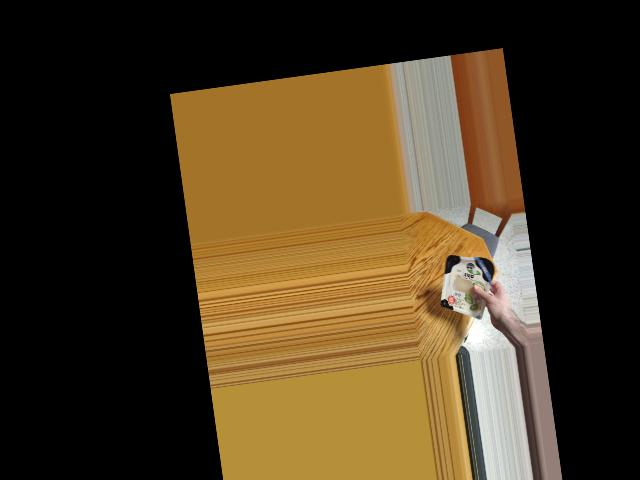cheese: (435, 248, 501, 313)
